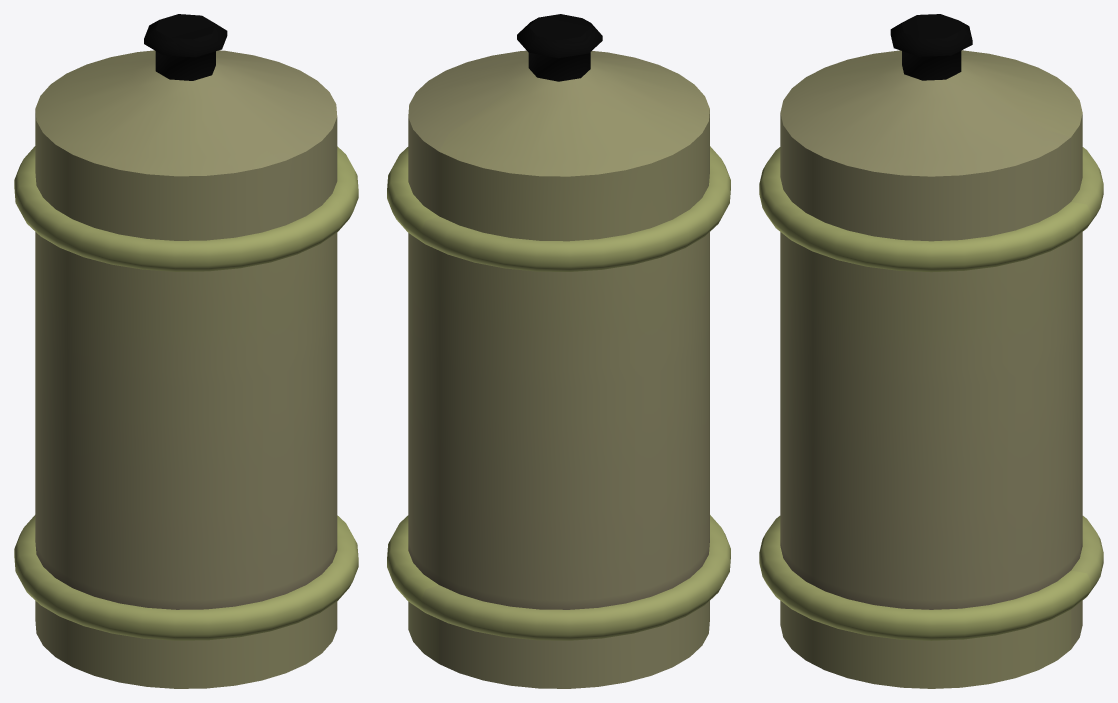
File: RocketFuel.fbx
The picture shows the model from 3 angles, left to right: view 1: azimuth 30°, elevation 25°; view 2: azimuth 150°, elevation 25°; view 3: azimuth 270°, elevation 25°; orthographic projection.
Visible parts, largest first — view 1: Cylinder; view 2: Cylinder; view 3: Cylinder.
Boxes of the visible parts, <box> form: Cylinder: <box>14,14,358,688</box>; Cylinder: <box>387,14,730,688</box>; Cylinder: <box>759,14,1103,688</box>.
Size of the model in its own units: 137 by 262 by 137.
